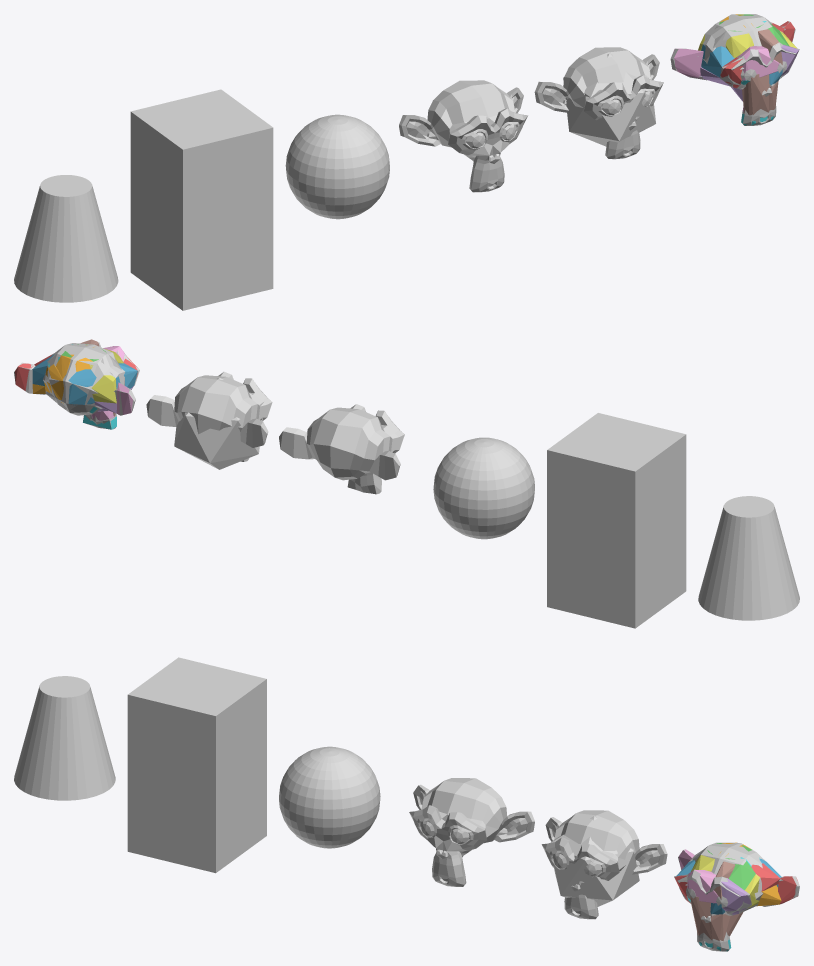
The model's file is coltesting.glb.
3 renders of one model, top to bottom at view 1: azimuth 30°, elevation 25°; view 2: azimuth 150°, elevation 25°; view 3: azimuth 330°, elevation 25°, orthographic. The views are drawn at different scales.
Visible parts, largest first — view 1: Cube, Cylinder, Sphere, Suzanne.VHACD, Suzanne, Suzanne.ColChild, Suzanne.col; view 2: Cube, Cylinder, Sphere, Suzanne.VHACD, Suzanne, Suzanne.ColChild, Suzanne.col; view 3: Cube, Cylinder, Sphere, Suzanne.VHACD, Suzanne, Suzanne.ColChild, Suzanne.col.
Part boxes in pixels (left/top/right/bottom): Cube: left=130, top=89, right=273, bottom=310; Cylinder: left=14, top=175, right=118, bottom=302; Sphere: left=285, top=114, right=389, bottom=219; Suzanne.VHACD: left=670, top=14, right=799, bottom=125; Suzanne: left=399, top=80, right=527, bottom=192; Suzanne.ColChild: left=534, top=47, right=663, bottom=159; Suzanne.col: left=563, top=53, right=655, bottom=146; Cube: left=547, top=413, right=686, bottom=628; Cylinder: left=698, top=496, right=799, bottom=620; Sphere: left=433, top=437, right=534, bottom=539; Suzanne.VHACD: left=14, top=339, right=139, bottom=429; Suzanne: left=279, top=404, right=404, bottom=494; Suzanne.ColChild: left=146, top=371, right=272, bottom=461; Suzanne.col: left=174, top=377, right=264, bottom=469; Cube: left=127, top=657, right=266, bottom=873; Cylinder: left=14, top=676, right=115, bottom=800; Sphere: left=279, top=746, right=380, bottom=848; Suzanne.VHACD: left=674, top=842, right=799, bottom=951; Suzanne: left=409, top=778, right=534, bottom=886; Suzanne.ColChild: left=541, top=810, right=667, bottom=919; Suzanne.col: left=550, top=816, right=639, bottom=906.
Size of the model in its own units: 17.37 by 3.4 by 2.
